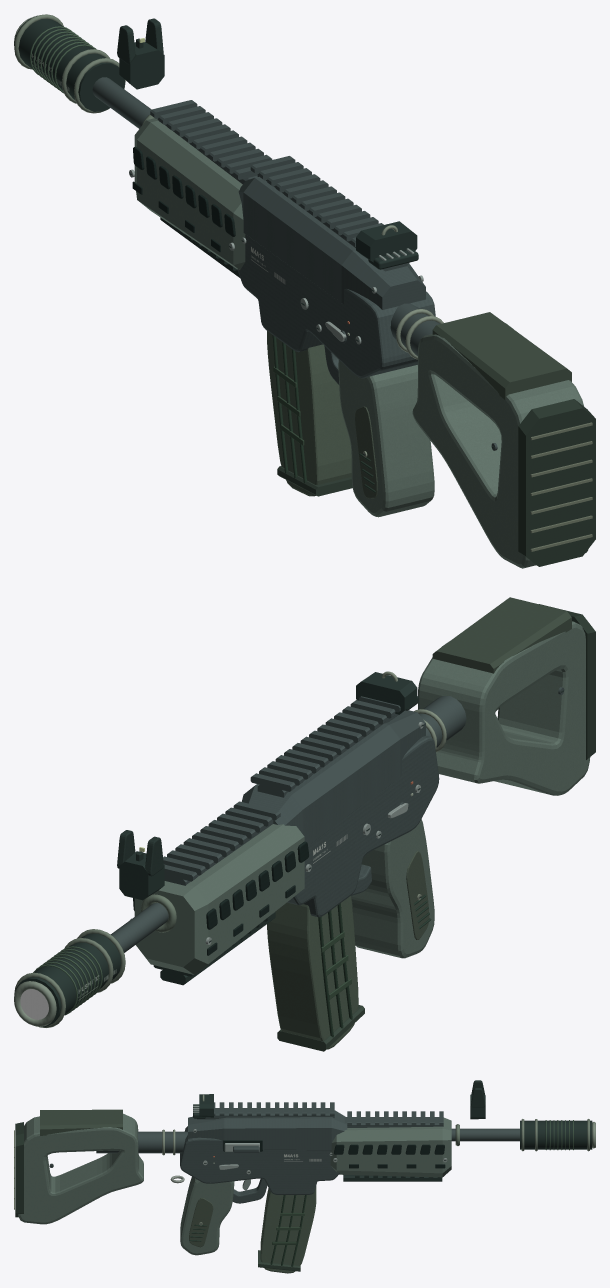
3 views of the same model, one above another, from view 1: azimuth 30°, elevation 25°; view 2: azimuth 150°, elevation 25°; view 3: azimuth 270°, elevation 25° (orthographic). The views are drawn at different scales.
Parts seen in each view (by area): view 1: m4a1s, magazine; view 2: m4a1s, magazine; view 3: m4a1s, magazine, bolt.
Part boxes in pixels (x1,y1,x2,y2): m4a1s: [14, 14, 595, 568]; magazine: [267, 331, 352, 496]; m4a1s: [14, 597, 595, 1027]; magazine: [267, 896, 364, 1051]; m4a1s: [14, 1080, 595, 1255]; magazine: [258, 1186, 316, 1273]; bolt: [224, 1143, 259, 1152].
Bounding box in the file's own units: 0.1553 × 0.5728 × 1.65.
Materials: 31 (17 with a texture image).
